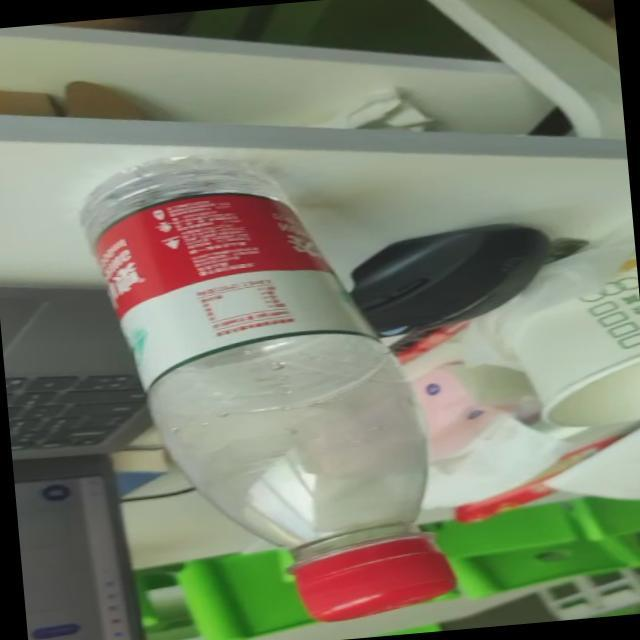good: (69, 138, 454, 640)
